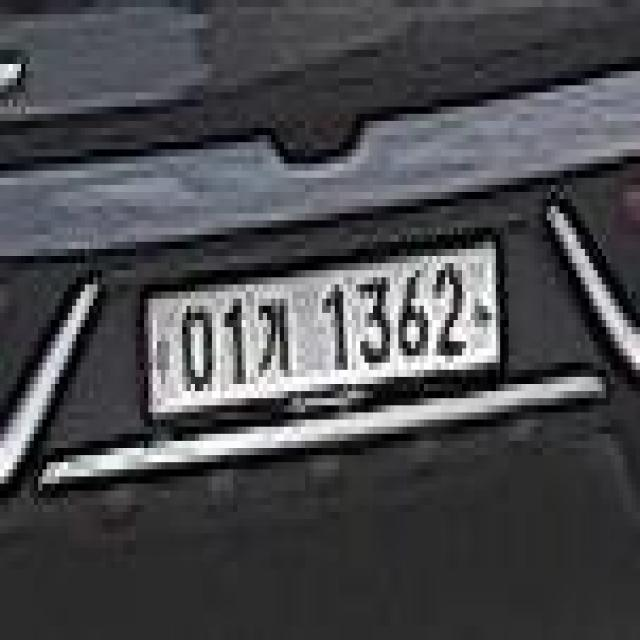illegal_plate: (139, 234, 509, 429)
